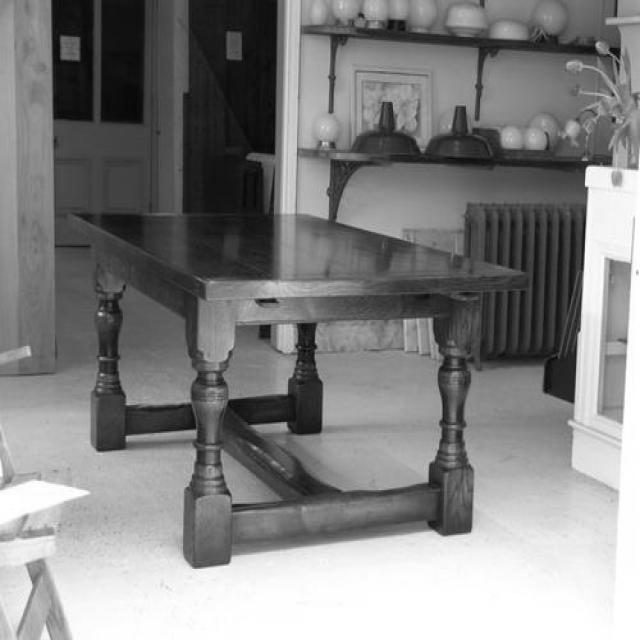table: (44, 200, 534, 567)
